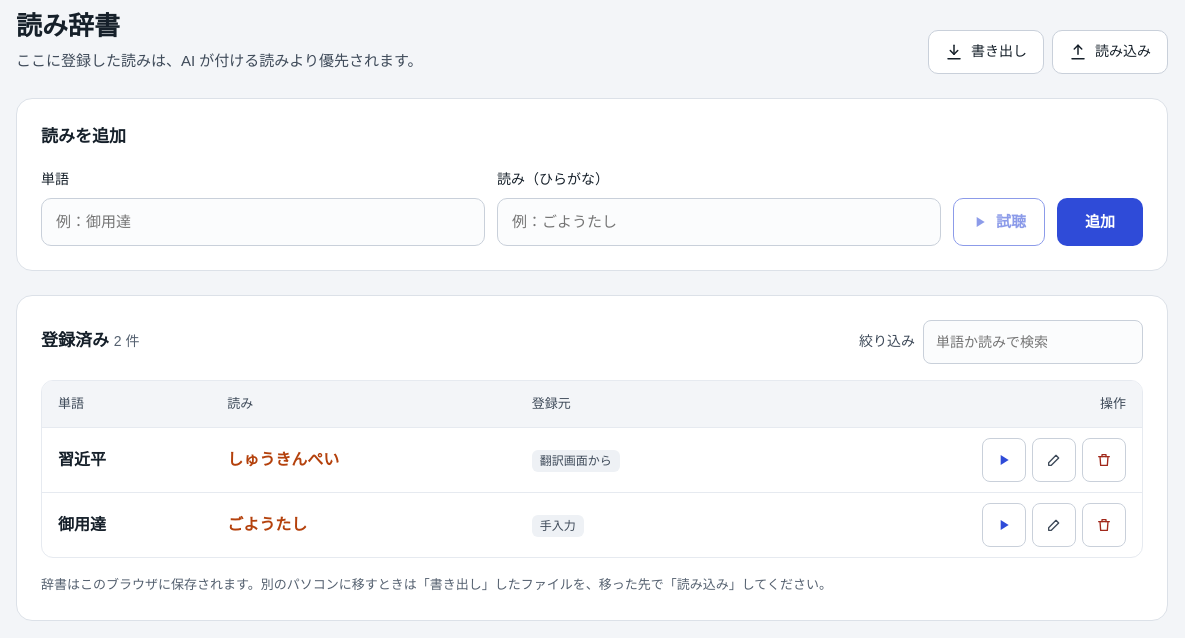
Dictionary 一覧 › 編集は「やめる」で元に戻る
Click the button named "御用達 を編集": (1054, 525) top-left (1032, 503), bottom-right (1076, 547)
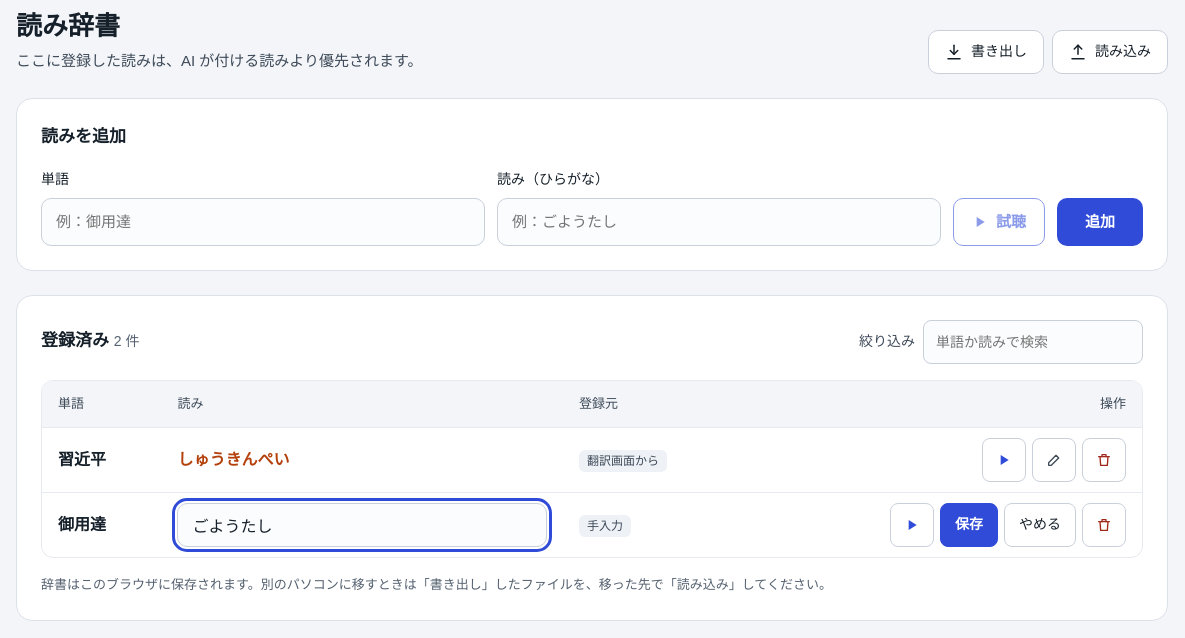
Replace the text in the field named "御用達 の読み" with "ごようだし": (362, 525) top-left (177, 503), bottom-right (547, 547)
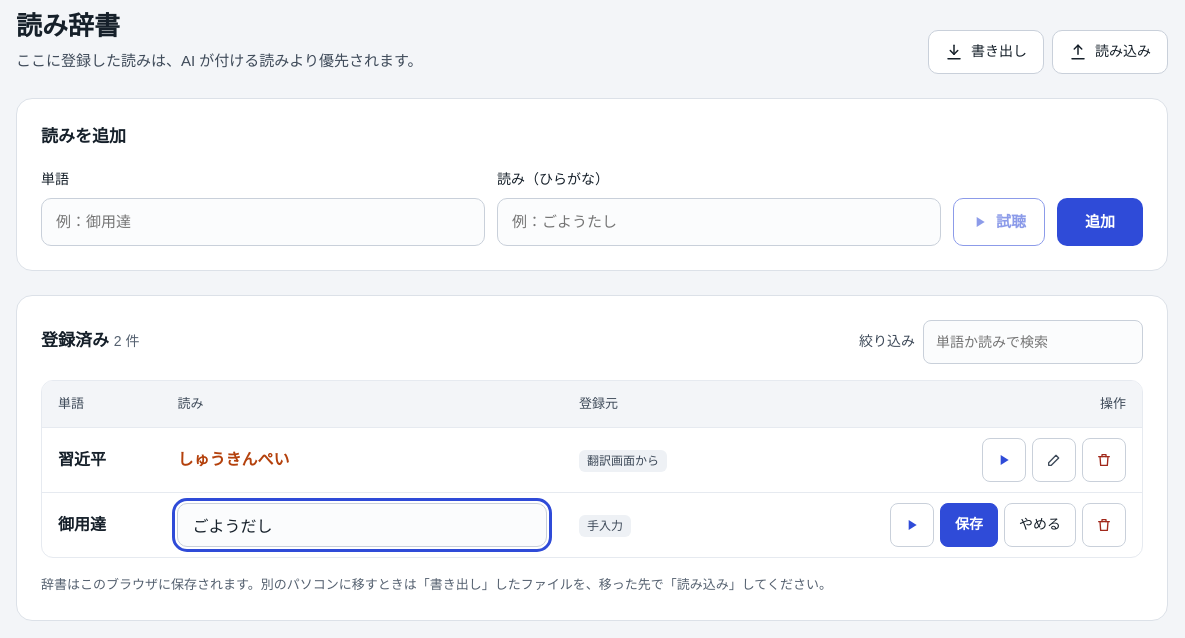
Click the button "やめる": (1040, 525) top-left (1004, 503), bottom-right (1076, 547)
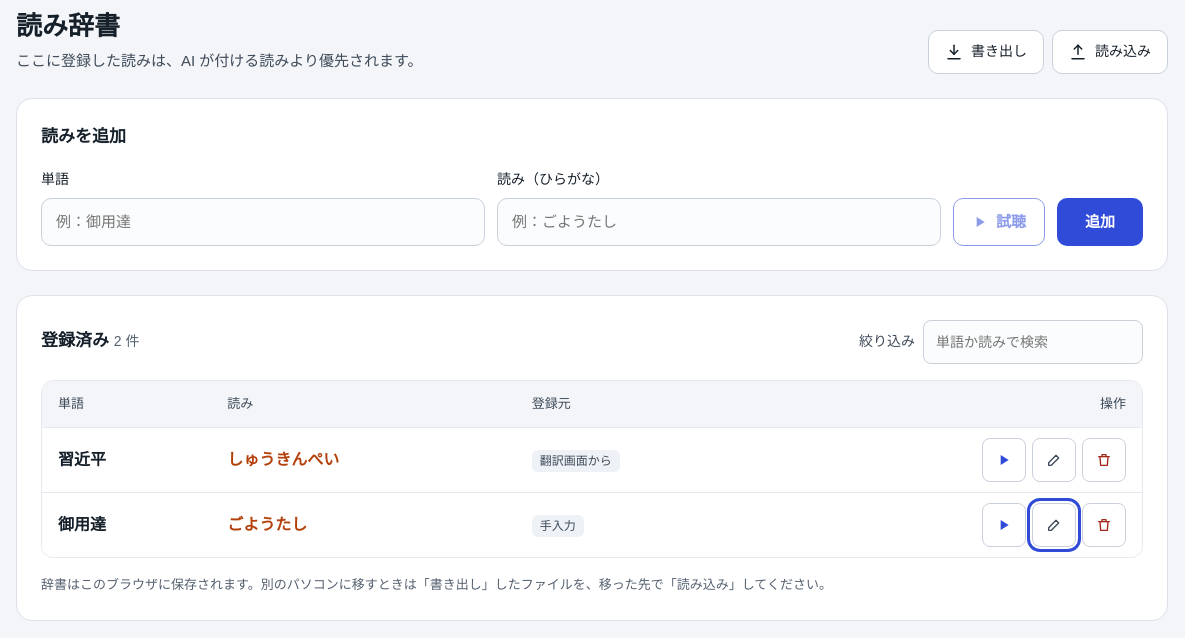
Now the cell "ごようたし" is shown, box top-left (211, 492), bottom-right (516, 557)
